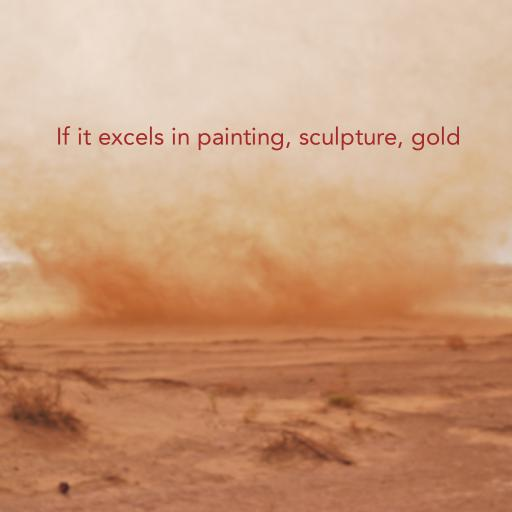Avenir: (55, 126, 461, 151)
